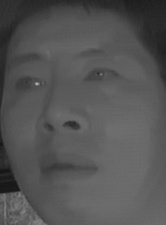eye: (81, 63, 120, 87), (12, 72, 49, 96)
mouth: (35, 148, 98, 190)
